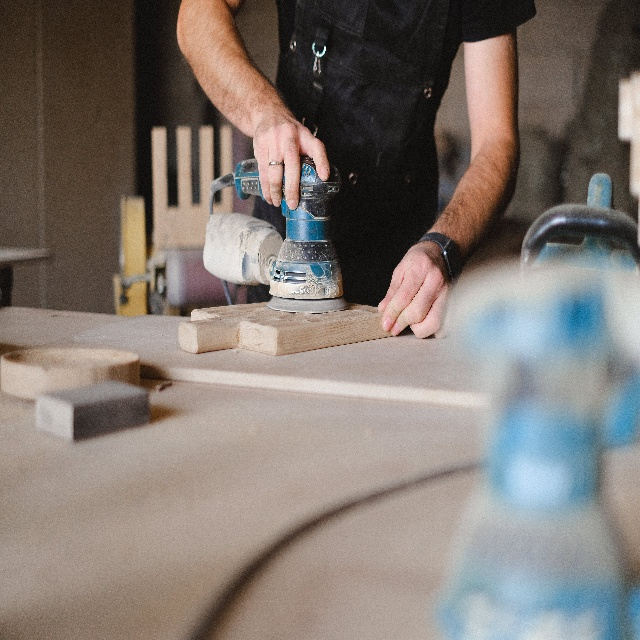Sin_guantes: (376, 237, 458, 344), (252, 108, 331, 213)
